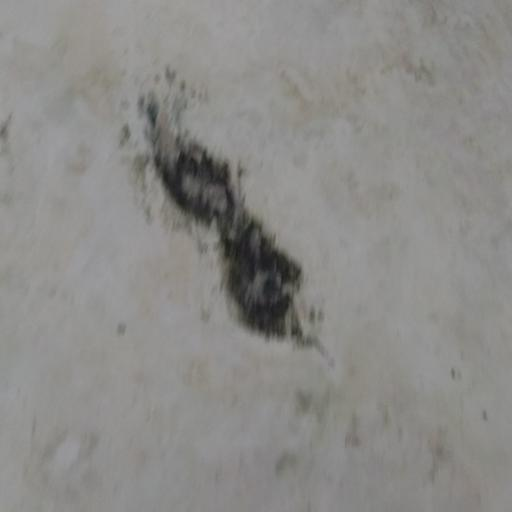algae: (86, 46, 374, 394)
